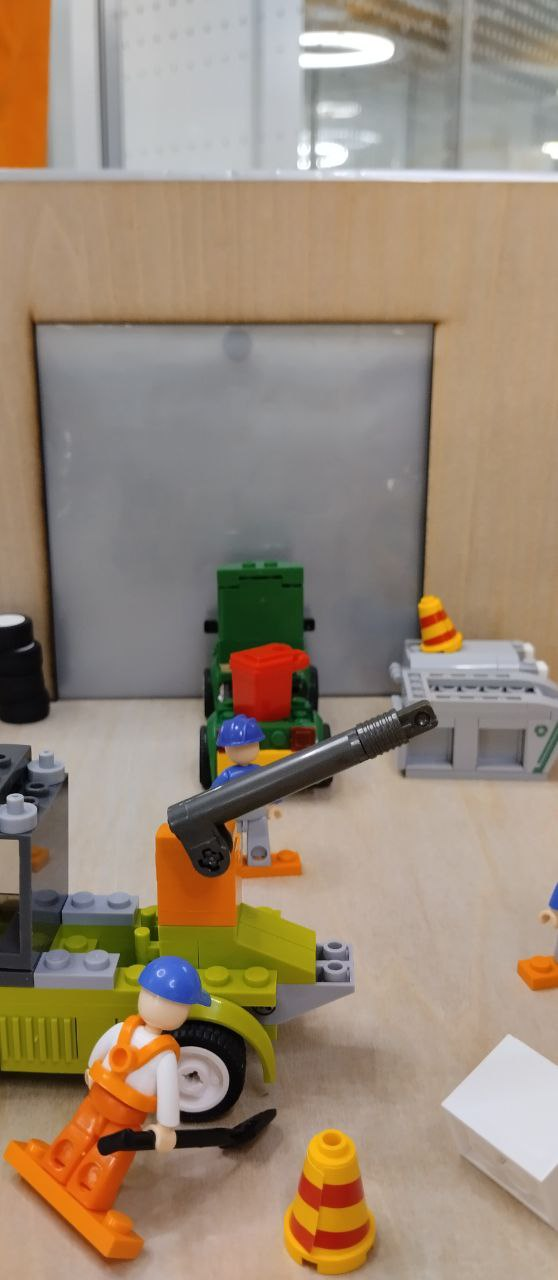Cone: (286, 1128, 379, 1272), (416, 594, 462, 650)
Crane: (0, 704, 436, 1118)
Object Red: (235, 642, 304, 718)
Object white: (445, 1034, 558, 1222)
Truck: (206, 562, 331, 790)
